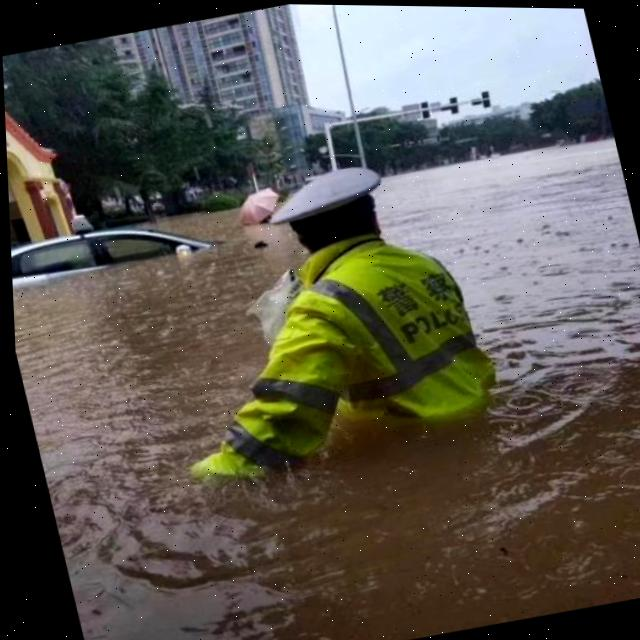rescuer: (101, 72, 574, 584)
